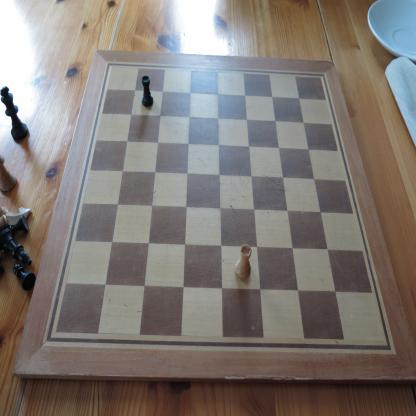black-bishop: (0, 228, 32, 268)
black-king: (0, 85, 29, 141)
black-pawn: (13, 263, 36, 291)
black-rook: (141, 75, 154, 108)
white-knight: (0, 206, 34, 233)
white-rook: (234, 244, 252, 279)
